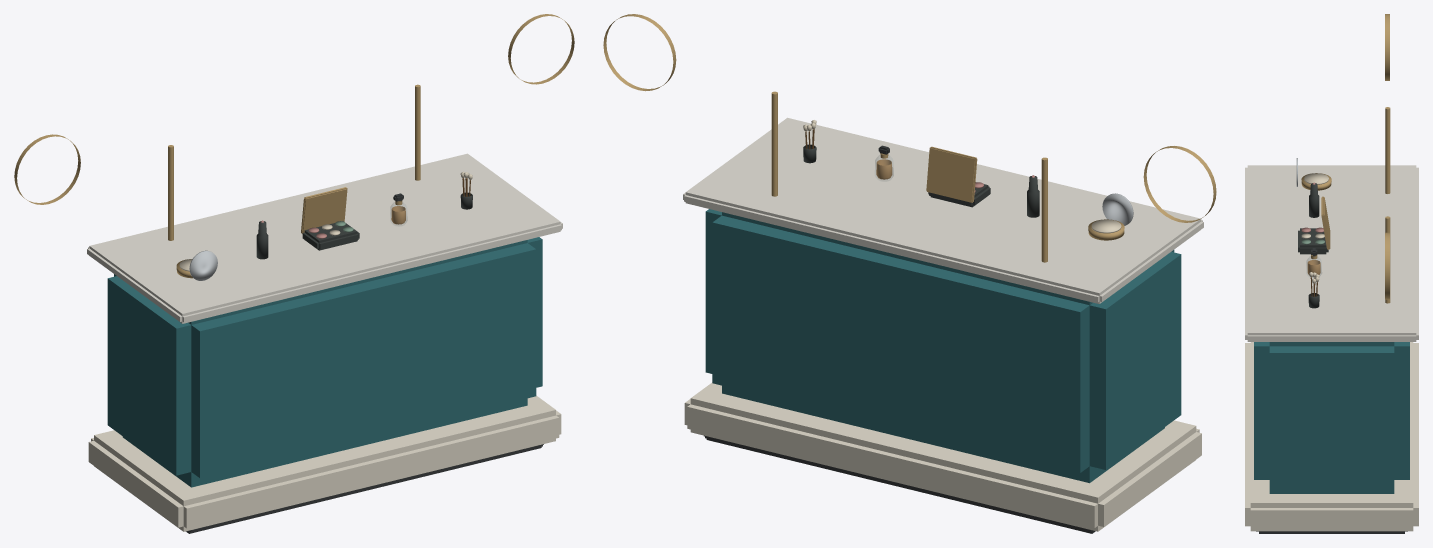
Rendered from collection_v29_beauty_0.glb.
The picture shows the model from 3 angles, left to right: view 1: azimuth 30°, elevation 25°; view 2: azimuth 150°, elevation 25°; view 3: azimuth 270°, elevation 25°; orthographic projection. The views are drawn at different scales.
Parts seen in each view (by area): view 1: collection_v29_beauty_0_V29_petrol_enamel, collection_v29_beauty_0_Honed_solid_surface, collection_v29_beauty_0_V29_ivory_lacquer, collection_v29_beauty_0_Satin_champagne, collection_v29_beauty_0_V23_satin_brass.004, collection_v29_beauty_0_Anodised_graphite, collection_v29_beauty_0_V23_ceramic_graphite.001, collection_v29_beauty_0_Brushed_stainless.001; view 2: collection_v29_beauty_0_V29_petrol_enamel, collection_v29_beauty_0_Honed_solid_surface, collection_v29_beauty_0_V29_ivory_lacquer, collection_v29_beauty_0_Satin_champagne, collection_v29_beauty_0_V23_satin_brass.004, collection_v29_beauty_0_Anodised_graphite, collection_v29_beauty_0_Brushed_stainless.001; view 3: collection_v29_beauty_0_Honed_solid_surface, collection_v29_beauty_0_V29_petrol_enamel, collection_v29_beauty_0_V29_ivory_lacquer, collection_v29_beauty_0_Satin_champagne, collection_v29_beauty_0_V23_ceramic_graphite.001, collection_v29_beauty_0_Anodised_graphite, collection_v29_beauty_0_V23_ceramic_graphite, collection_v29_beauty_0_V23_satin_brass.004, collection_v29_beauty_0_Shop_display_glass.001, collection_v29_beauty_0_V23_natural_canvas.004.
Boxes of the visible parts, bbox=[...] form: collection_v29_beauty_0_V29_petrol_enamel: bbox=[107, 237, 542, 487]; collection_v29_beauty_0_Honed_solid_surface: bbox=[87, 153, 562, 323]; collection_v29_beauty_0_V29_ivory_lacquer: bbox=[88, 395, 561, 531]; collection_v29_beauty_0_Satin_champagne: bbox=[14, 14, 574, 240]; collection_v29_beauty_0_V23_satin_brass.004: bbox=[301, 187, 347, 233]; collection_v29_beauty_0_Anodised_graphite: bbox=[186, 444, 543, 533]; collection_v29_beauty_0_V23_ceramic_graphite.001: bbox=[302, 221, 359, 250]; collection_v29_beauty_0_Brushed_stainless.001: bbox=[189, 250, 217, 280]; collection_v29_beauty_0_V29_petrol_enamel: bbox=[705, 209, 1181, 483]; collection_v29_beauty_0_Honed_solid_surface: bbox=[683, 117, 1203, 303]; collection_v29_beauty_0_V29_ivory_lacquer: bbox=[684, 382, 1201, 531]; collection_v29_beauty_0_Satin_champagne: bbox=[603, 14, 1216, 262]; collection_v29_beauty_0_V23_satin_brass.004: bbox=[926, 146, 977, 202]; collection_v29_beauty_0_Anodised_graphite: bbox=[704, 435, 1095, 533]; collection_v29_beauty_0_Brushed_stainless.001: bbox=[1102, 193, 1133, 225]; collection_v29_beauty_0_Honed_solid_surface: bbox=[1245, 165, 1418, 341]; collection_v29_beauty_0_V29_petrol_enamel: bbox=[1254, 342, 1409, 493]; collection_v29_beauty_0_V29_ivory_lacquer: bbox=[1245, 342, 1418, 531]; collection_v29_beauty_0_Satin_champagne: bbox=[1385, 14, 1390, 303]; collection_v29_beauty_0_V23_ceramic_graphite.001: bbox=[1298, 228, 1328, 254]; collection_v29_beauty_0_Anodised_graphite: bbox=[1256, 531, 1407, 533]; collection_v29_beauty_0_V23_ceramic_graphite: bbox=[1309, 183, 1319, 217]; collection_v29_beauty_0_V23_satin_brass.004: bbox=[1321, 196, 1330, 249]; collection_v29_beauty_0_Shop_display_glass.001: bbox=[1306, 256, 1321, 277]; collection_v29_beauty_0_V23_natural_canvas.004: bbox=[1304, 173, 1328, 184].
Bounding box in the file's own units: 2.62 × 1.63 × 0.78.
Materials: 22 (1 with a texture image).
